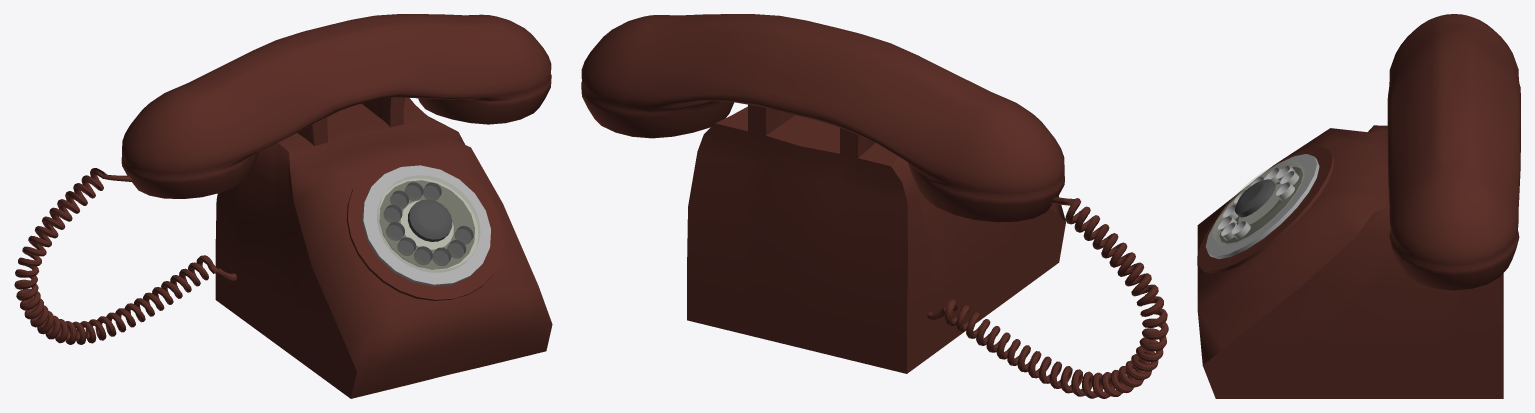
Rendered from phone2ringing.fbx.
3 views of the same model, side by side, from view 1: azimuth 30°, elevation 25°; view 2: azimuth 150°, elevation 25°; view 3: azimuth 270°, elevation 25° (orthographic). The views are drawn at different scales.
Visible parts, largest first — view 1: phonebody, reciever, numbers, cord_up, Base, holes, center; view 2: phonebody, reciever, cord_up; view 3: phonebody, reciever, numbers, holes, Base, center.
Part boxes in pixels (x1,y1,x2,y2): phonebody: (215, 97, 552, 398); reciever: (121, 14, 551, 198); numbers: (362, 165, 490, 286); cord_up: (14, 168, 236, 344); Base: (346, 155, 503, 300); holes: (377, 175, 479, 272); center: (407, 199, 452, 241); phonebody: (687, 104, 1065, 373); reciever: (581, 14, 1064, 222); cord_up: (927, 197, 1168, 398); phonebody: (1197, 125, 1503, 398); reciever: (1387, 14, 1520, 290); numbers: (1205, 154, 1319, 259); holes: (1212, 160, 1304, 245); Base: (1197, 147, 1334, 273); center: (1234, 179, 1275, 217).
Bounding box in the file's own units: 12.74 × 6.14 × 6.43.
